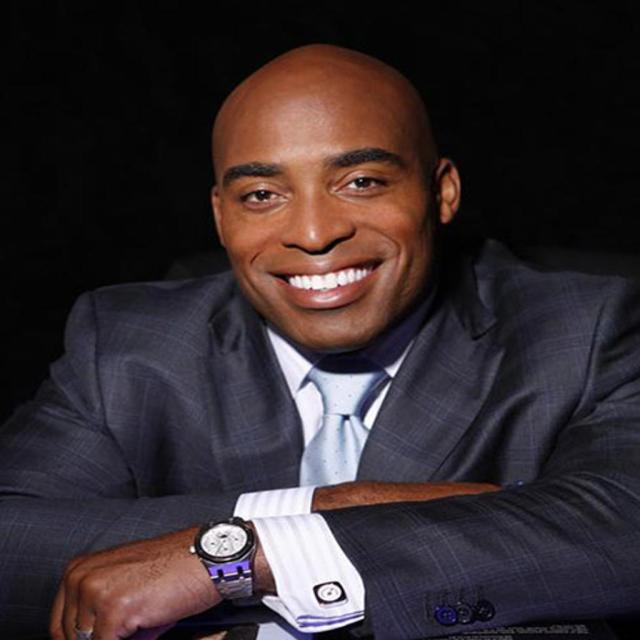Face: (203, 60, 451, 343)
